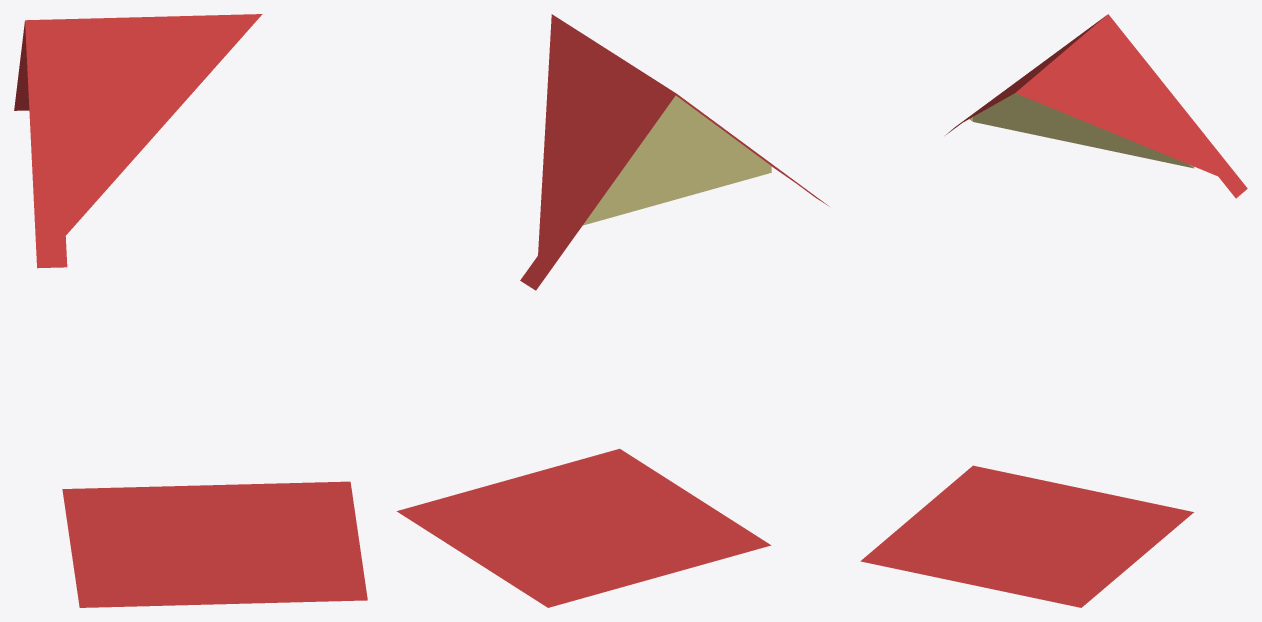
The picture shows the model from 3 angles, left to right: view 1: azimuth 30°, elevation 25°; view 2: azimuth 150°, elevation 25°; view 3: azimuth 270°, elevation 25°; orthographic projection. The views are drawn at different scales.
Bounding box in the file's own units: 7.34 × 7.29 × 9.56.
